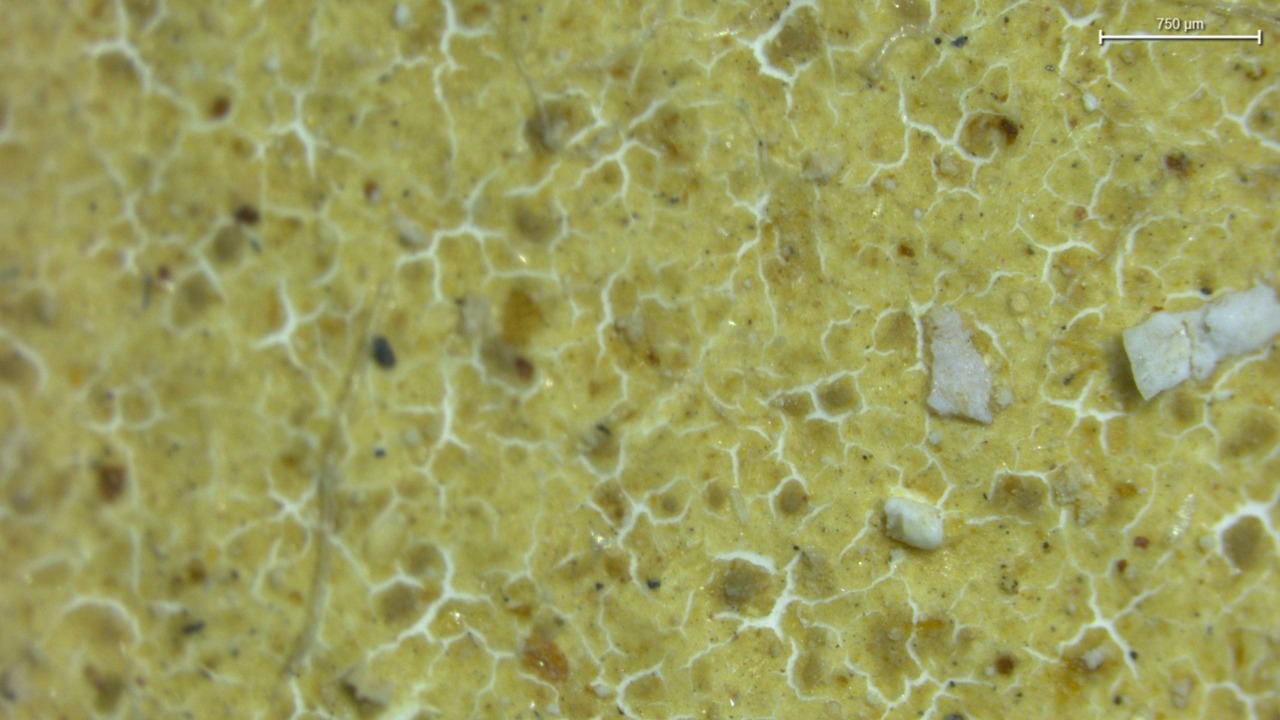microplastic_fragment: (1124, 284, 1280, 399), (927, 307, 993, 423), (883, 497, 944, 550)
